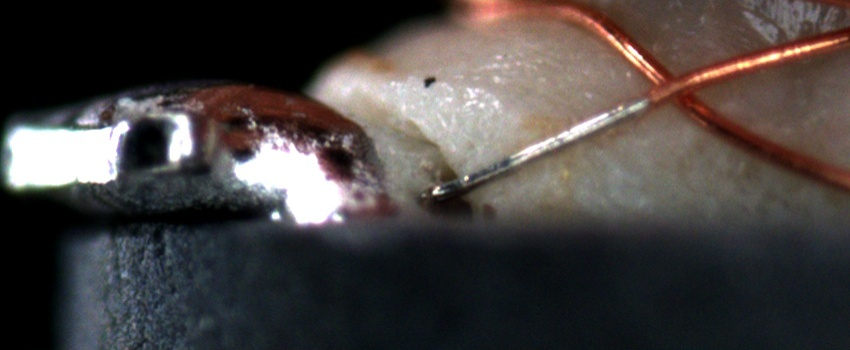CL: (629, 56, 720, 119)
TS: (416, 95, 651, 203)
